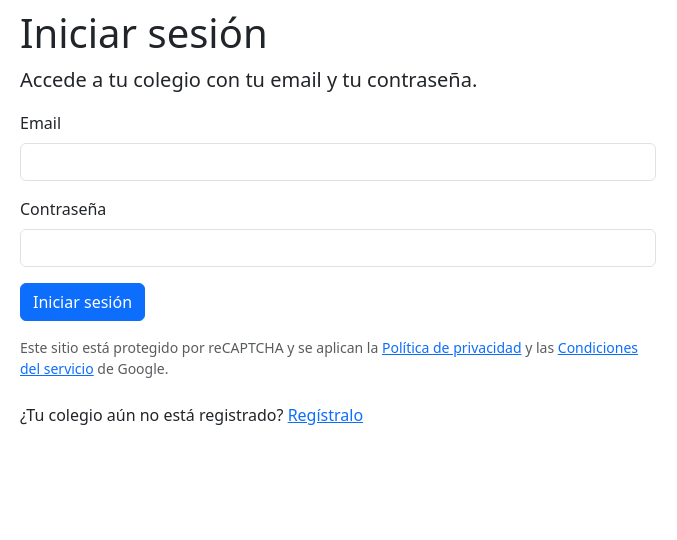
Test: LoginPage: the answers of the server › a correct login › warns of a temporary error when the session cannot be checked for another reason
The width and height of the screenshot is (677, 540).
Step 1. Type "jose.garcia@example.com" into the field labelled "Email" → [338, 162], box left=20, top=143, right=656, bottom=181
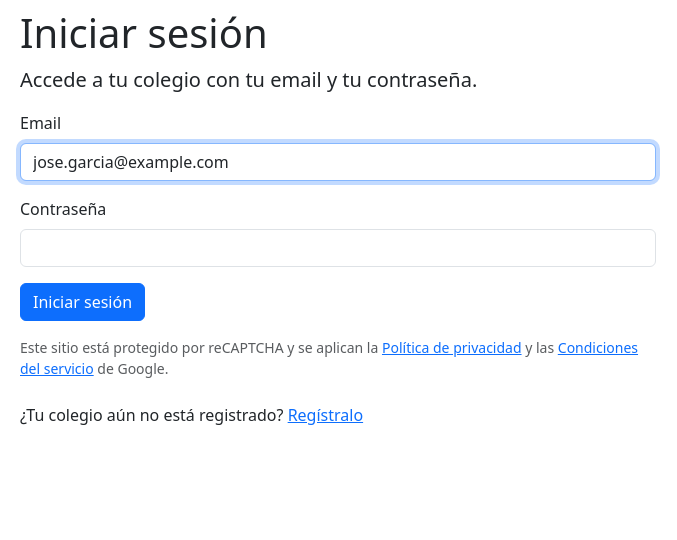
Step 2. Type "Secreta123!" into the password field labelled "Contraseña" → [338, 248], box left=20, top=229, right=656, bottom=267
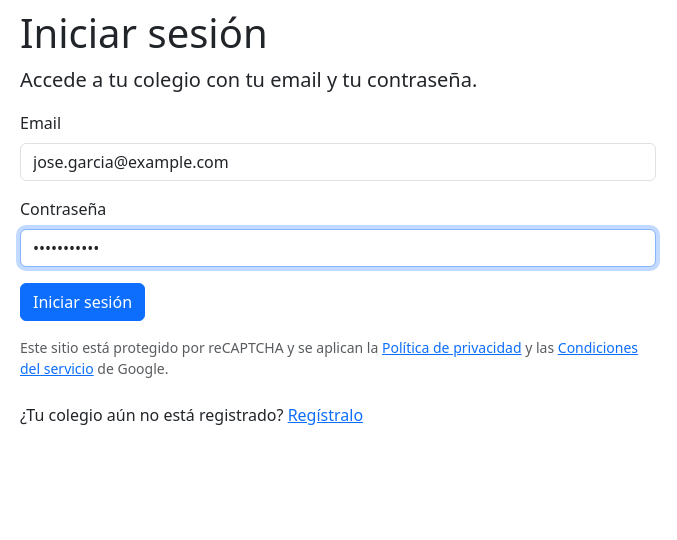
Step 3. Click the button "Iniciar sesión" → [82, 302], box left=20, top=283, right=145, bottom=321
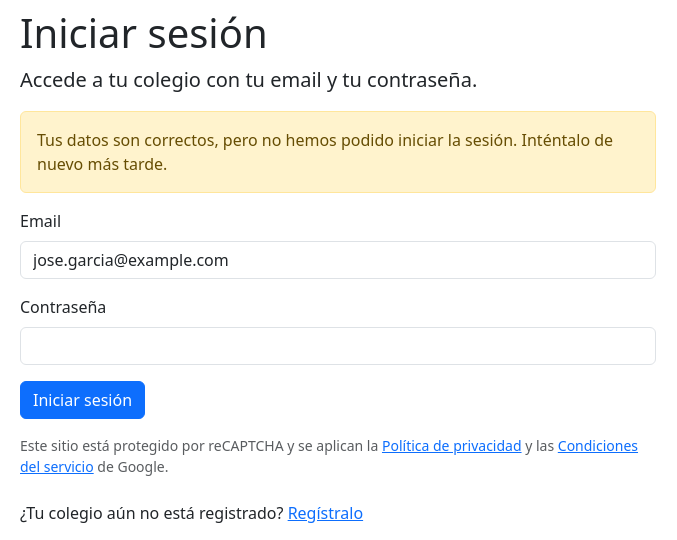
Result: the message shows "Tus datos son correctos, pero no hemos podido iniciar la sesión. Inténtalo de nuevo más tarde." at left=37, top=129, right=613, bottom=175
